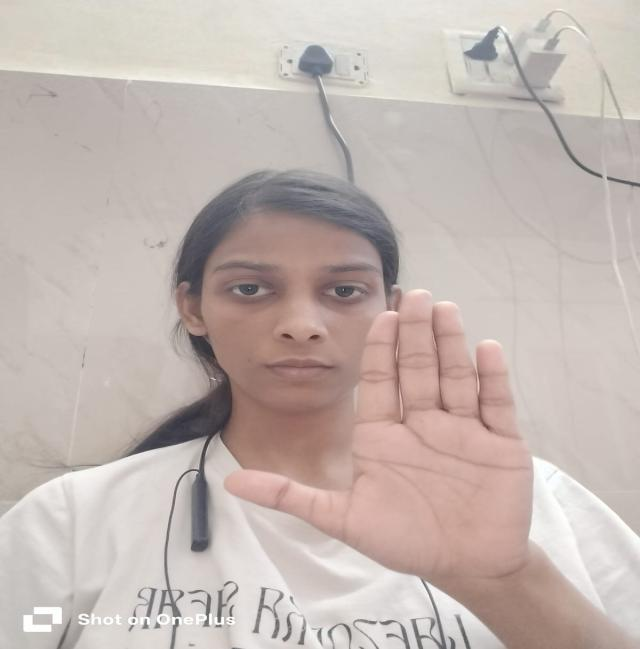Hello: (208, 281, 555, 599)
